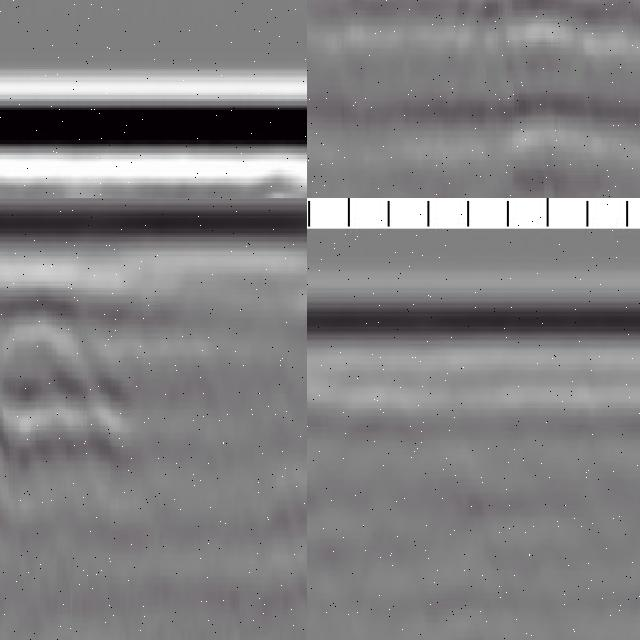crack: (1, 265, 46, 640), (467, 1, 517, 126)
